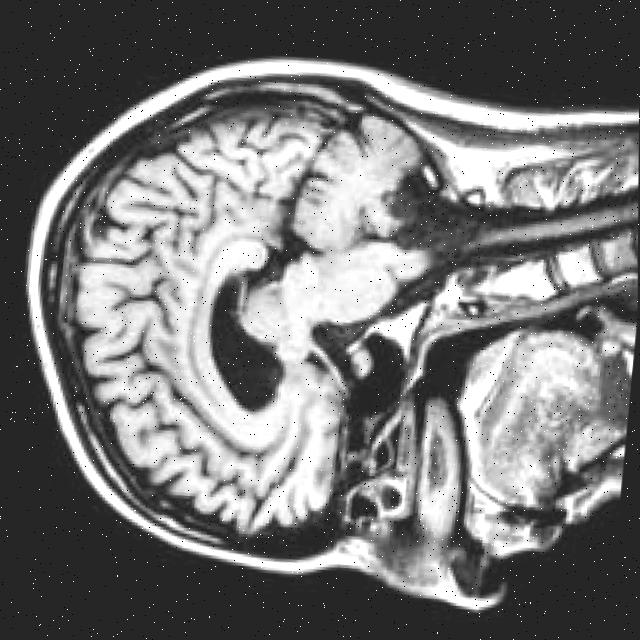NoTumor: (0, 32, 428, 591)
